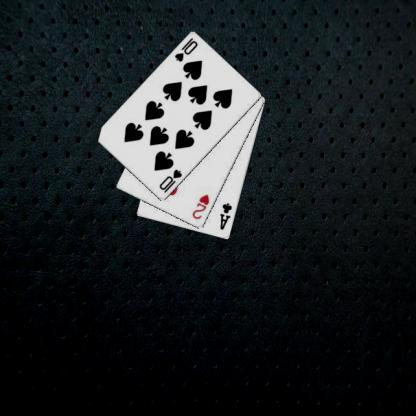10S: (156, 166, 184, 194), (172, 35, 199, 63)
2H: (189, 192, 211, 221)
AC: (217, 201, 233, 232)
